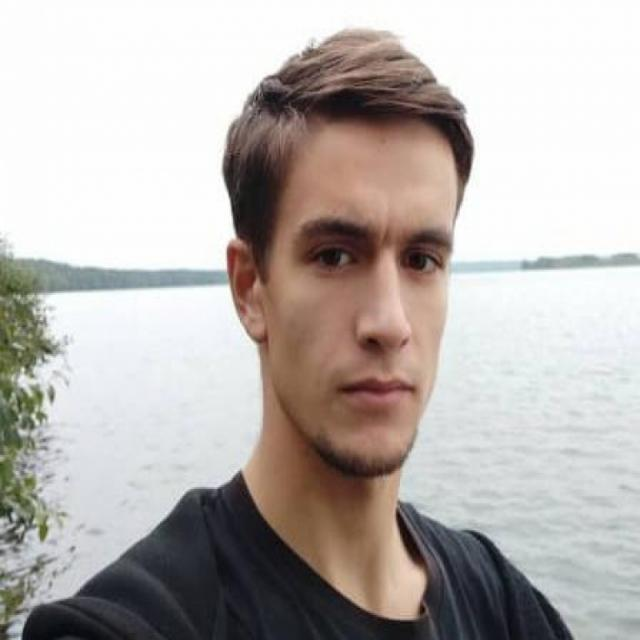earlobe: (226, 240, 268, 342)
